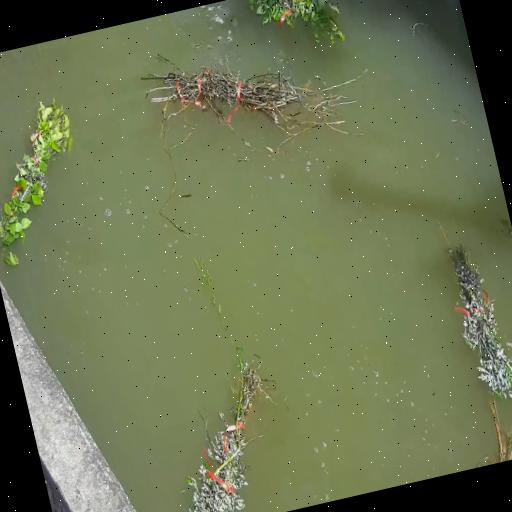twig: (188, 260, 271, 512), (141, 54, 352, 137), (0, 100, 73, 246), (449, 245, 512, 398), (249, 0, 345, 44), (478, 398, 512, 467)
